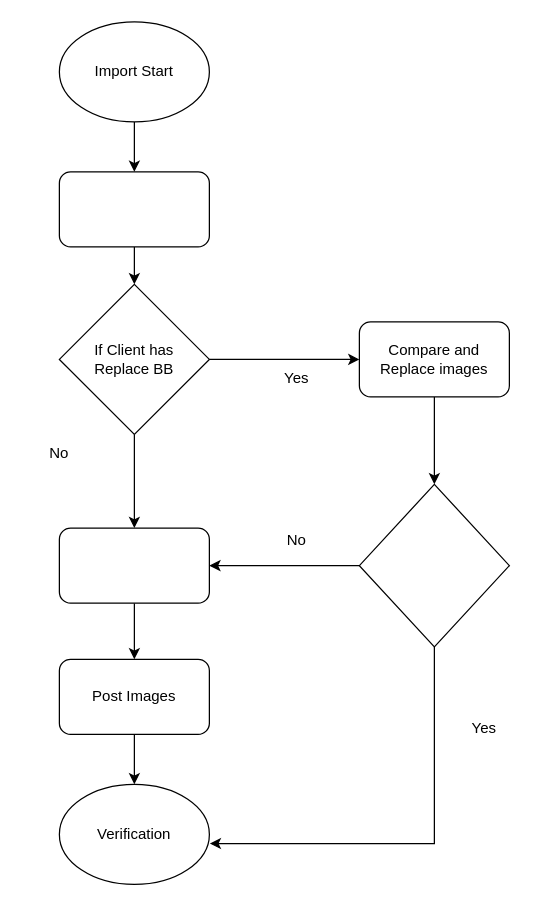
Image size: 543x906. Some labels were removed from this diagram. The shapes that lost their labels are listed below. From the top down, each one's centre as x and y in pixels, then its label:
At point (133, 209): "Insert Data in Veh Job".
At point (133, 565): "Process Vehicle Images for Posting".
At point (433, 565): "Images Matched & Replaced".
